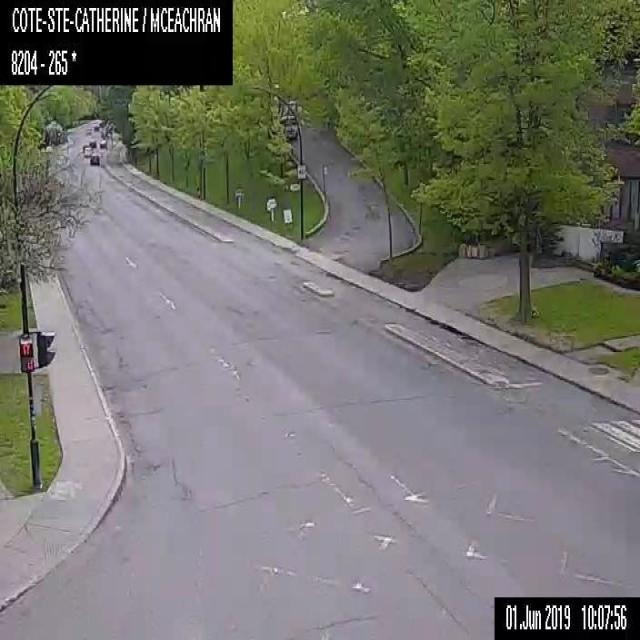vehicle: (280, 100, 297, 139), (89, 152, 99, 164), (82, 143, 91, 155), (99, 138, 106, 148), (89, 138, 96, 147), (86, 126, 92, 134), (94, 124, 98, 130)
